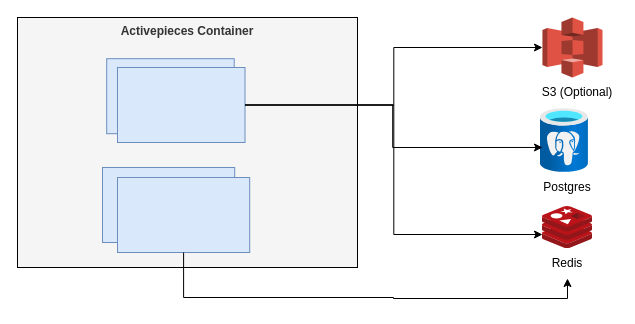
The diagram is 635 pixels wide and 324 high, and some of its shapes have lost their labels. The centre of each missing label's shape, as x and y in pixels:
App (Stateless): the point at 180,104
Worker (Stateless): the point at 183,214
